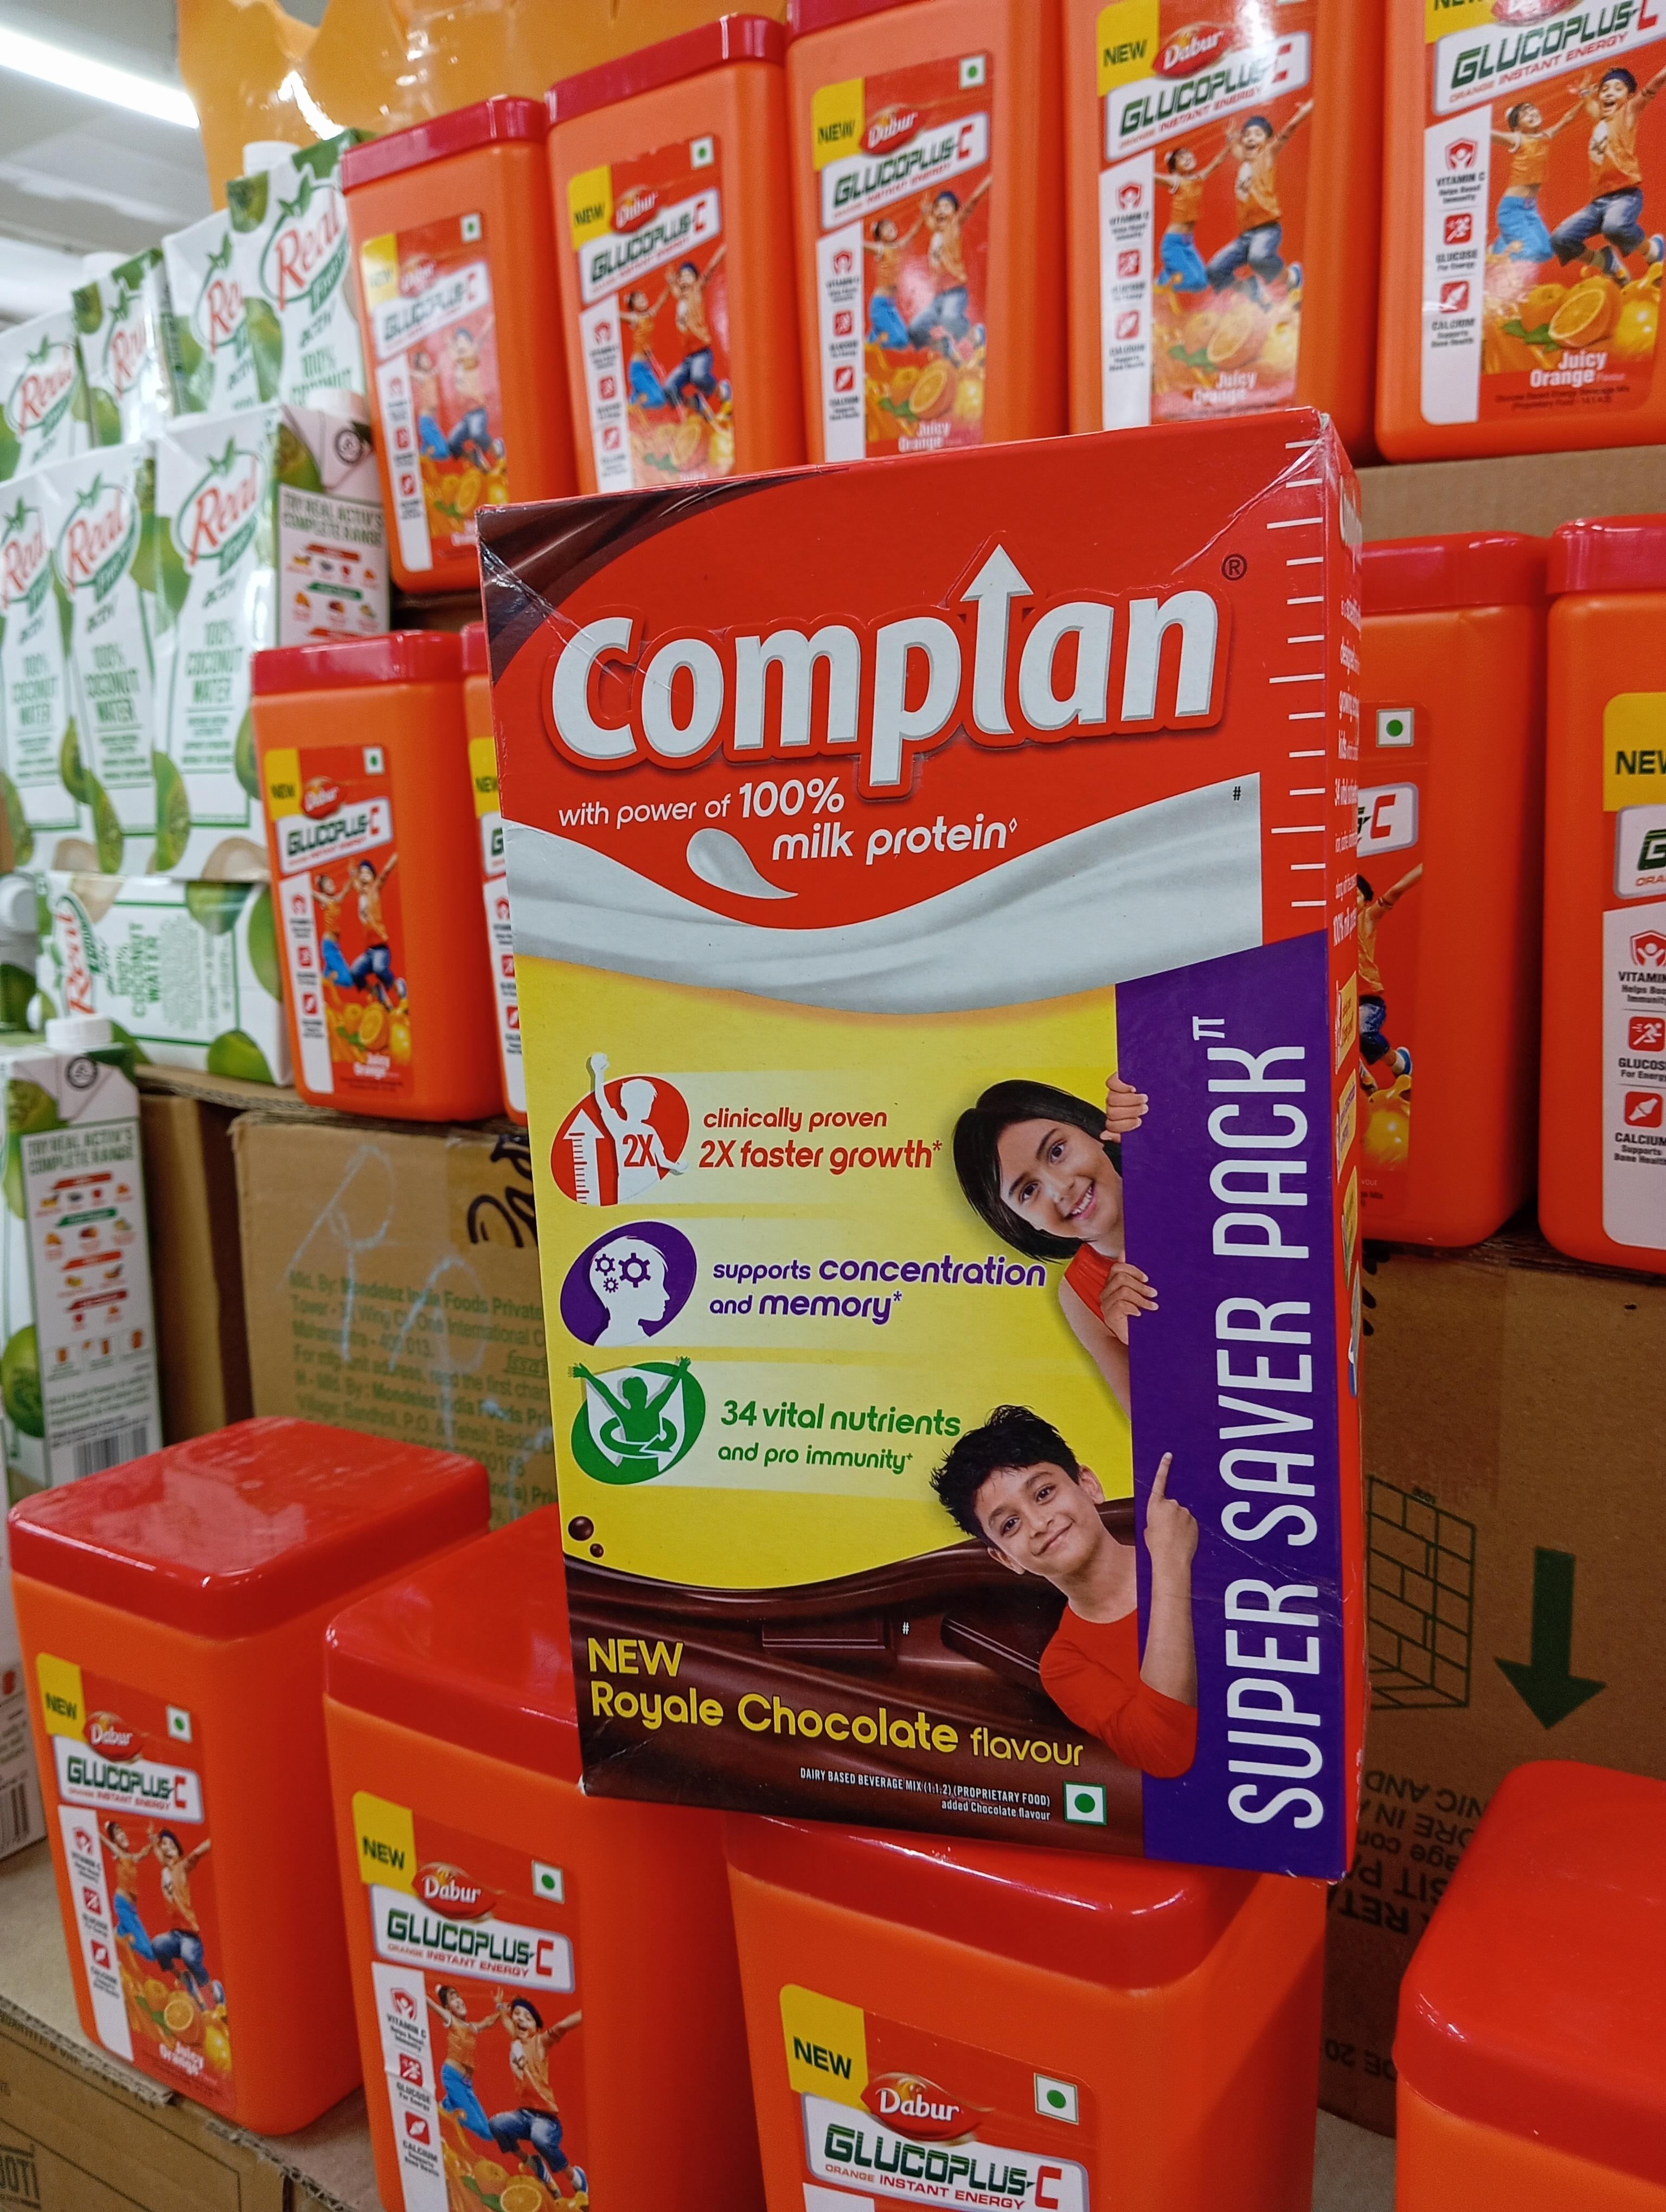COMPLAN_CHOCOLATE_1_KG_PACK: (497, 442, 1348, 1883)
